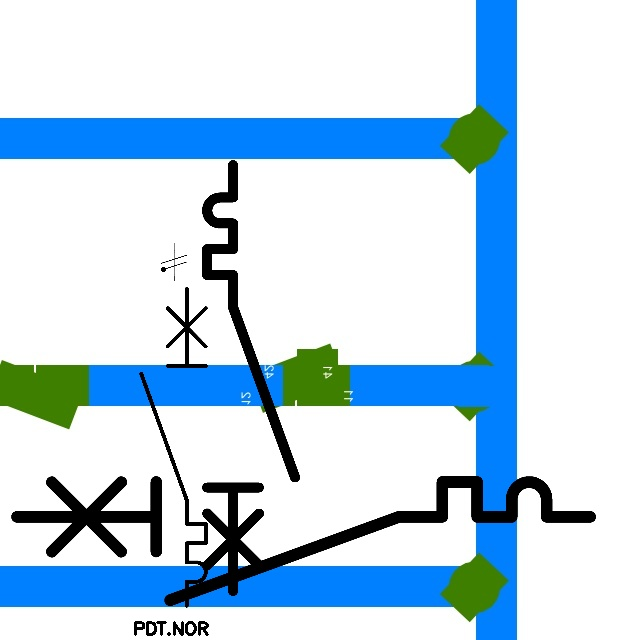interruptor_termomagnetico: (2, 467, 605, 614), (196, 154, 305, 602), (133, 280, 214, 614)
